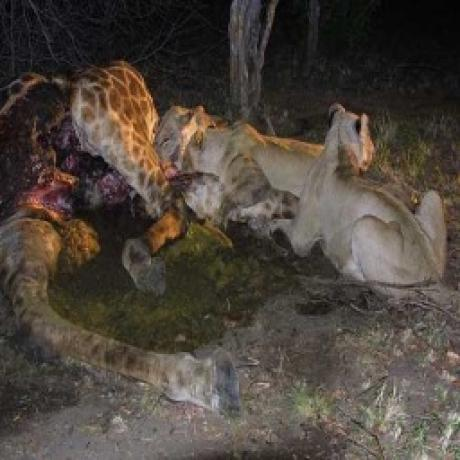Lion: (286, 92, 458, 289)
